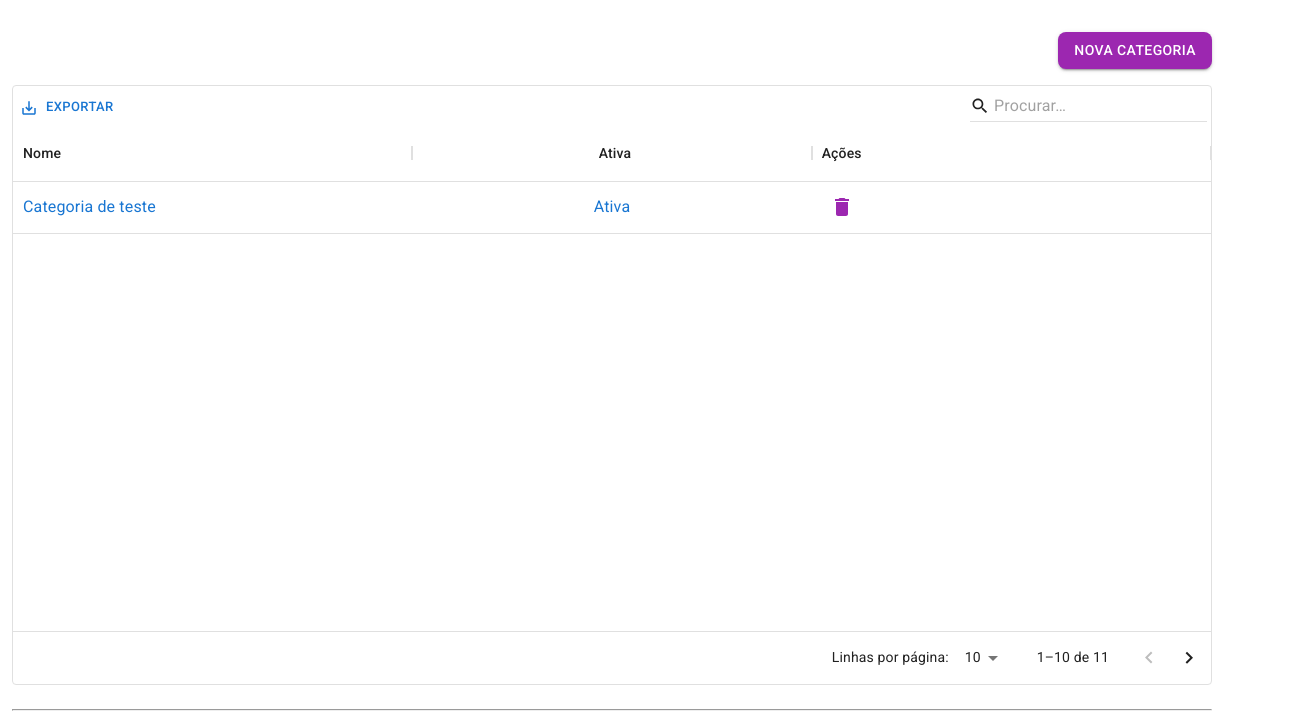
Scenario: Listagem de categorias › deve informar quando a exclusão falhar
Expected: the text "Categoria de teste" is shown, [23,195,156,219]
Click the button named "Excluir categoria" at (842, 207), box [822,187,862,227]
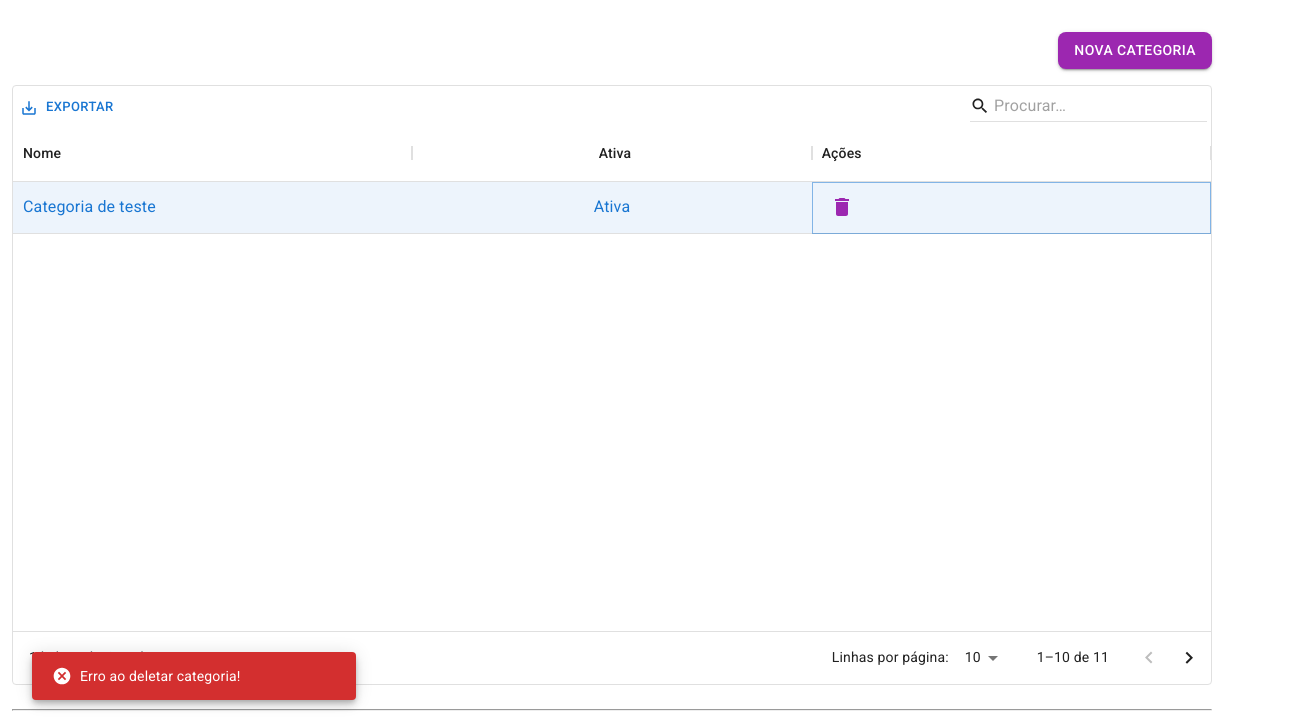
Expected: the text "Erro ao deletar categoria!" is shown, [52,666,240,686]
